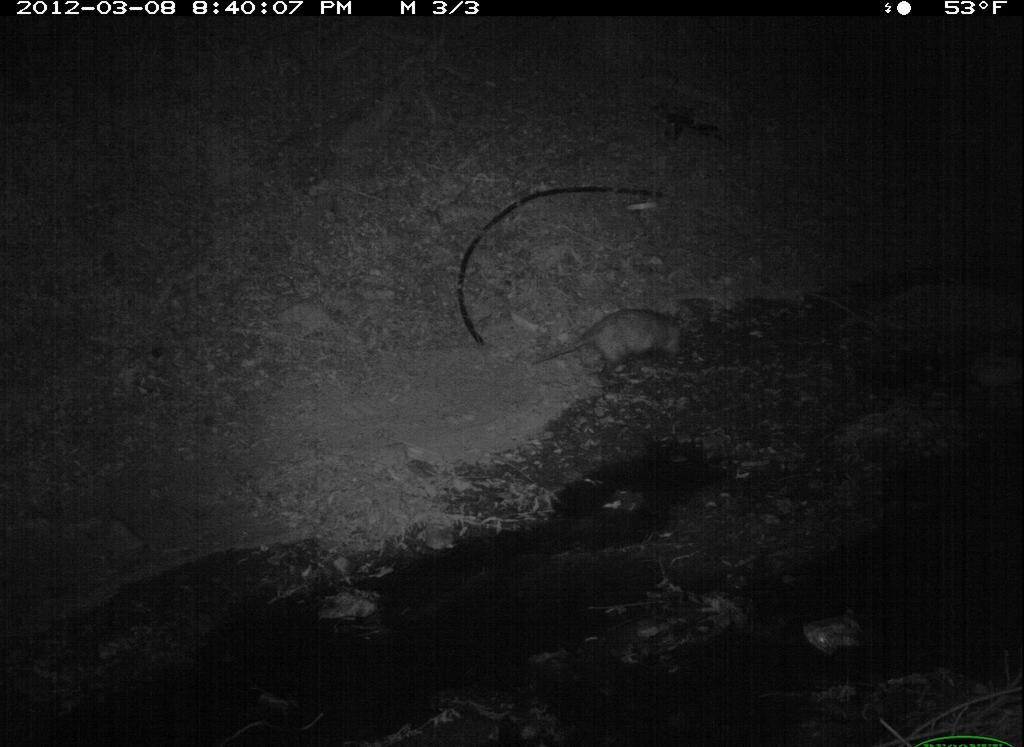opossum: (538, 303, 707, 386)
